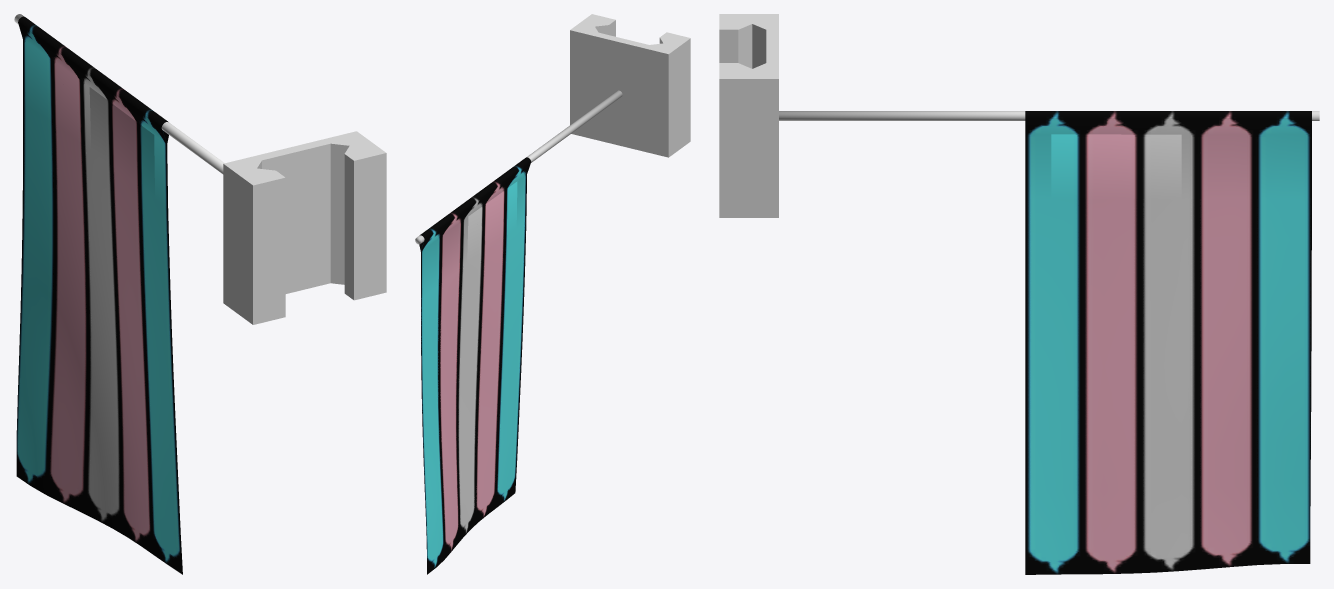
The model's file is Flagtachment_Model.fbx.
The picture shows the model from 3 angles, left to right: view 1: azimuth 30°, elevation 25°; view 2: azimuth 150°, elevation 25°; view 3: azimuth 270°, elevation 25°; orthographic projection. The views are drawn at different scales.
Parts seen in each view (by area): view 1: Flagtachment_Flag, Flagtachment_Base, Flagtachment_Pole; view 2: Flagtachment_Flag, Flagtachment_Base, Flagtachment_Pole; view 3: Flagtachment_Flag, Flagtachment_Base, Flagtachment_Pole.
Part boxes in pixels (<box>): Flagtachment_Flag: <box>16,16,182,574</box>; Flagtachment_Base: <box>223,131,386,324</box>; Flagtachment_Pole: <box>14,14,224,174</box>; Flagtachment_Flag: <box>419,157,531,574</box>; Flagtachment_Base: <box>570,14,690,157</box>; Flagtachment_Pole: <box>415,90,622,244</box>; Flagtachment_Flag: <box>1025,111,1311,574</box>; Flagtachment_Base: <box>719,14,778,217</box>; Flagtachment_Pole: <box>779,111,1319,120</box>.
Bounding box in the file's own units: 0.0305 × 0.1142 × 0.1193.
